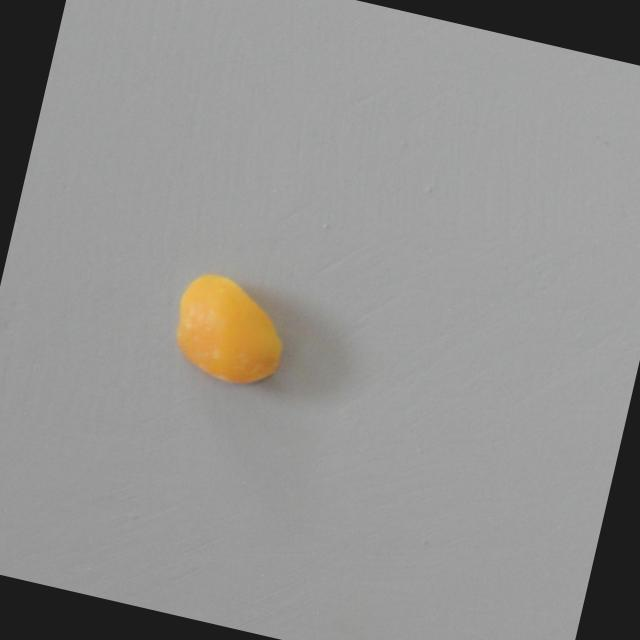dañado: (162, 261, 307, 396)
